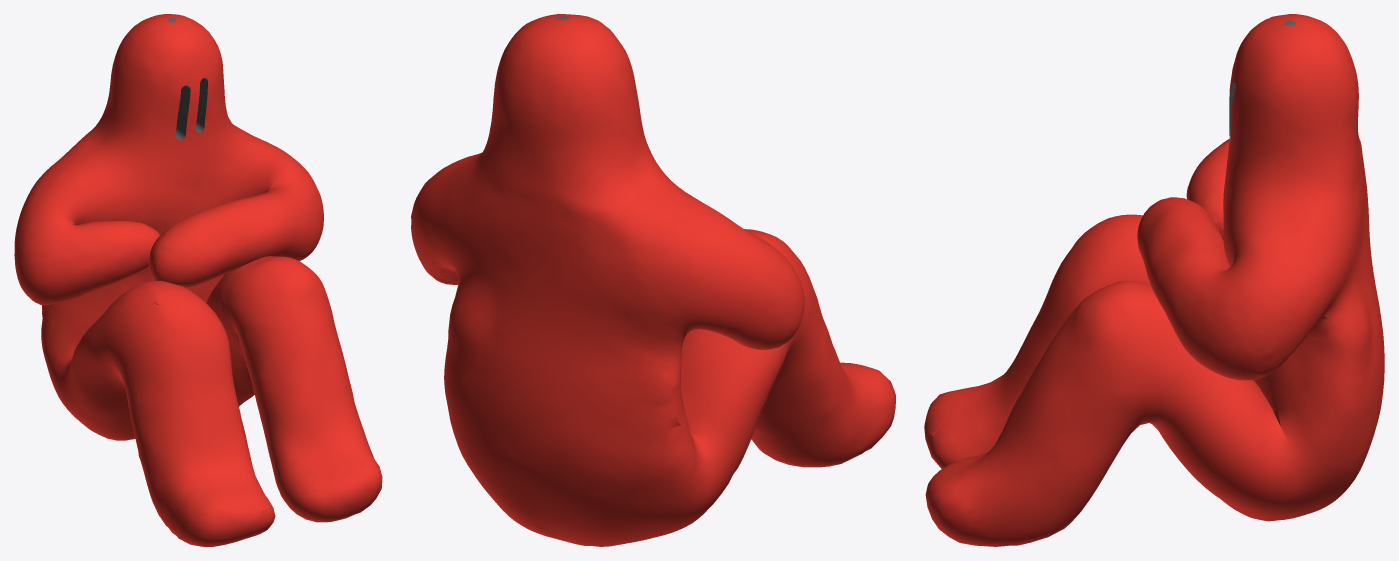
Rendered from redguy.glb.
3 renders of one model, left to right at view 1: azimuth 30°, elevation 25°; view 2: azimuth 150°, elevation 25°; view 3: azimuth 270°, elevation 25°, orthographic. The views are drawn at different scales.
Parts seen in each view (by area): view 1: Vert.001; view 2: Vert.001; view 3: Vert.001.
Part boxes in pixels (x1,y1,x2,y2): Vert.001: [14, 14, 382, 546]; Vert.001: [411, 14, 895, 546]; Vert.001: [924, 14, 1384, 546].
Size of the model in its own units: 2.99 by 3.94 by 3.32.
